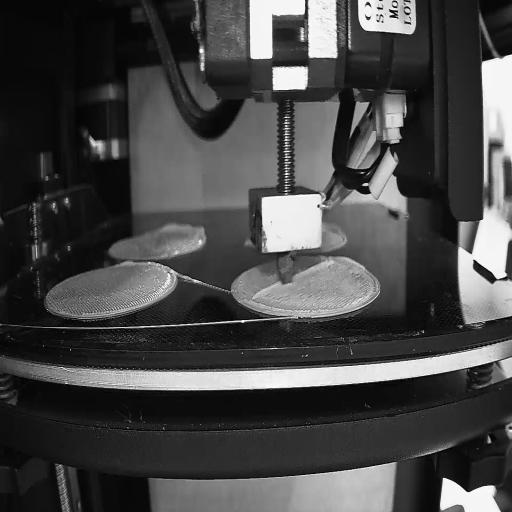over_extrusion: (253, 258, 332, 302), (159, 218, 209, 240), (328, 222, 350, 250), (338, 254, 366, 270), (118, 258, 138, 269)
